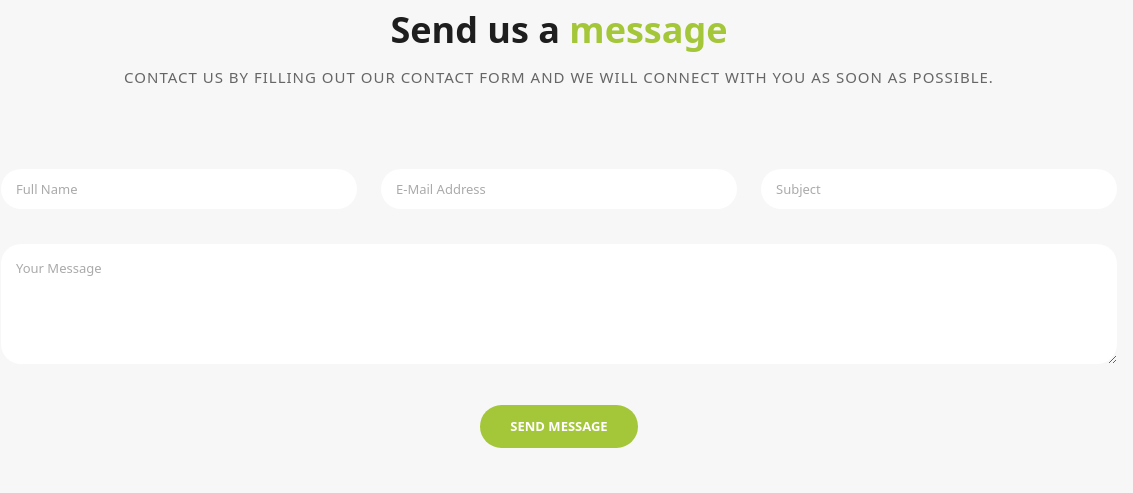
it: ContactForm Component › validates input fields and shows error messages
Click the button "Send Message".
click(559, 426)  # box [480, 405, 638, 448]
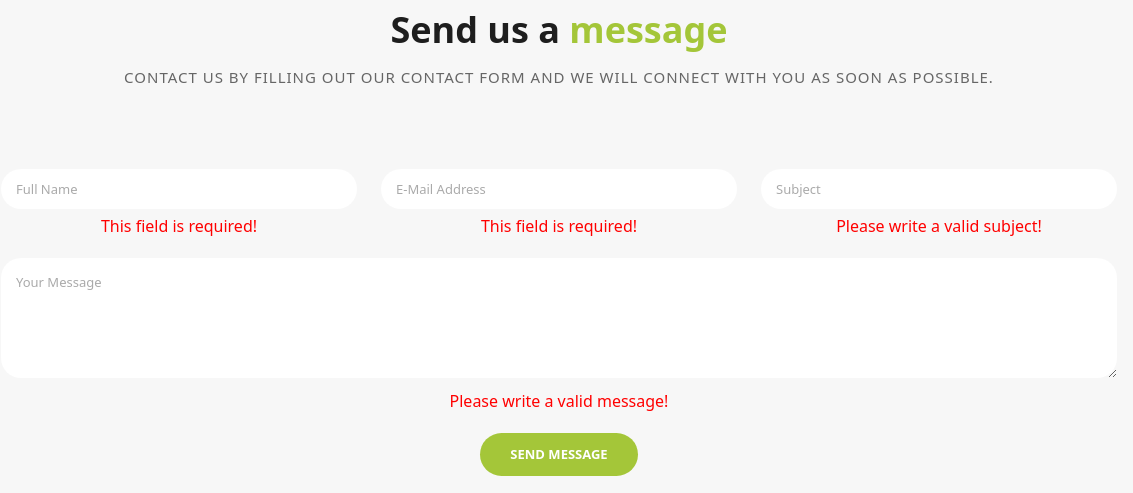
Result: the text "This field is required!" is shown 2 times at [101, 215, 257, 237]; [481, 215, 637, 237]
Result: the text "Please write a valid subject!" is shown at [836, 215, 1042, 237]
Result: the text "Please write a valid message!" is shown at [450, 390, 668, 412]
